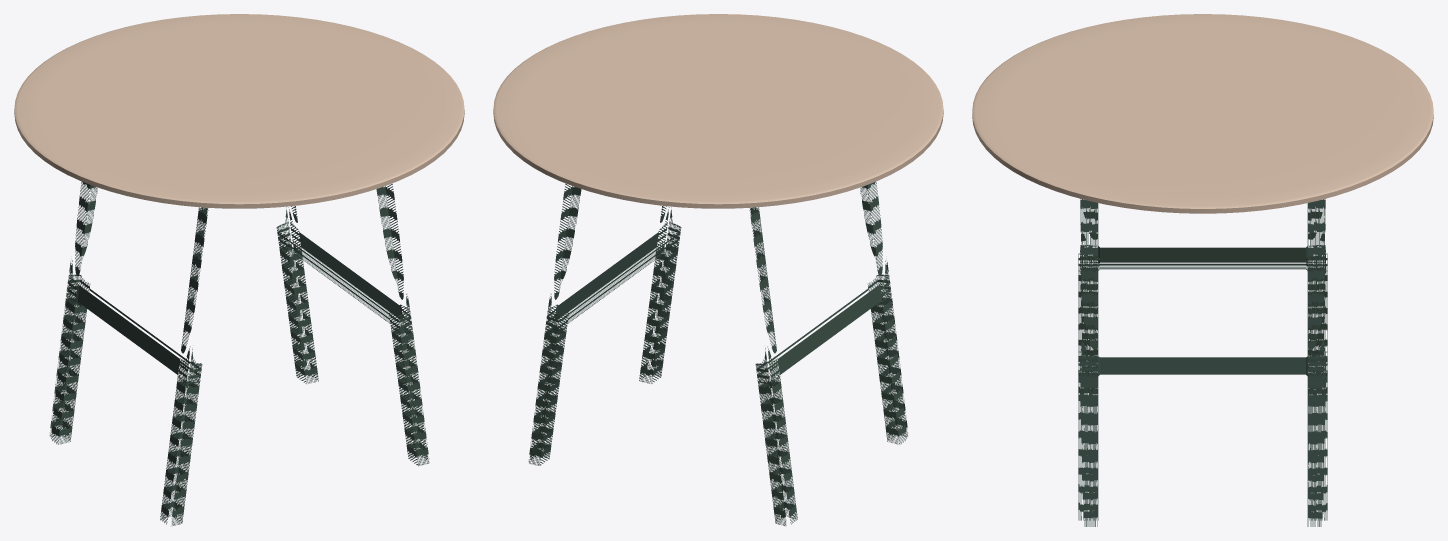
The model's file is MSH_Roof_Mesa.fbx.
The picture shows the model from 3 angles, left to right: view 1: azimuth 30°, elevation 25°; view 2: azimuth 150°, elevation 25°; view 3: azimuth 270°, elevation 25°; orthographic projection. The views are drawn at different scales.
Parts seen in each view (by area): view 1: MSH_Roof_Mesa; view 2: MSH_Roof_Mesa; view 3: MSH_Roof_Mesa.
Boxes of the visible parts, x1,y1,x2,y2 form: MSH_Roof_Mesa: (14,14,464,525); MSH_Roof_Mesa: (493,14,943,525); MSH_Roof_Mesa: (972,14,1433,526).
Size of the model in its own units: 126 by 106 by 126.
